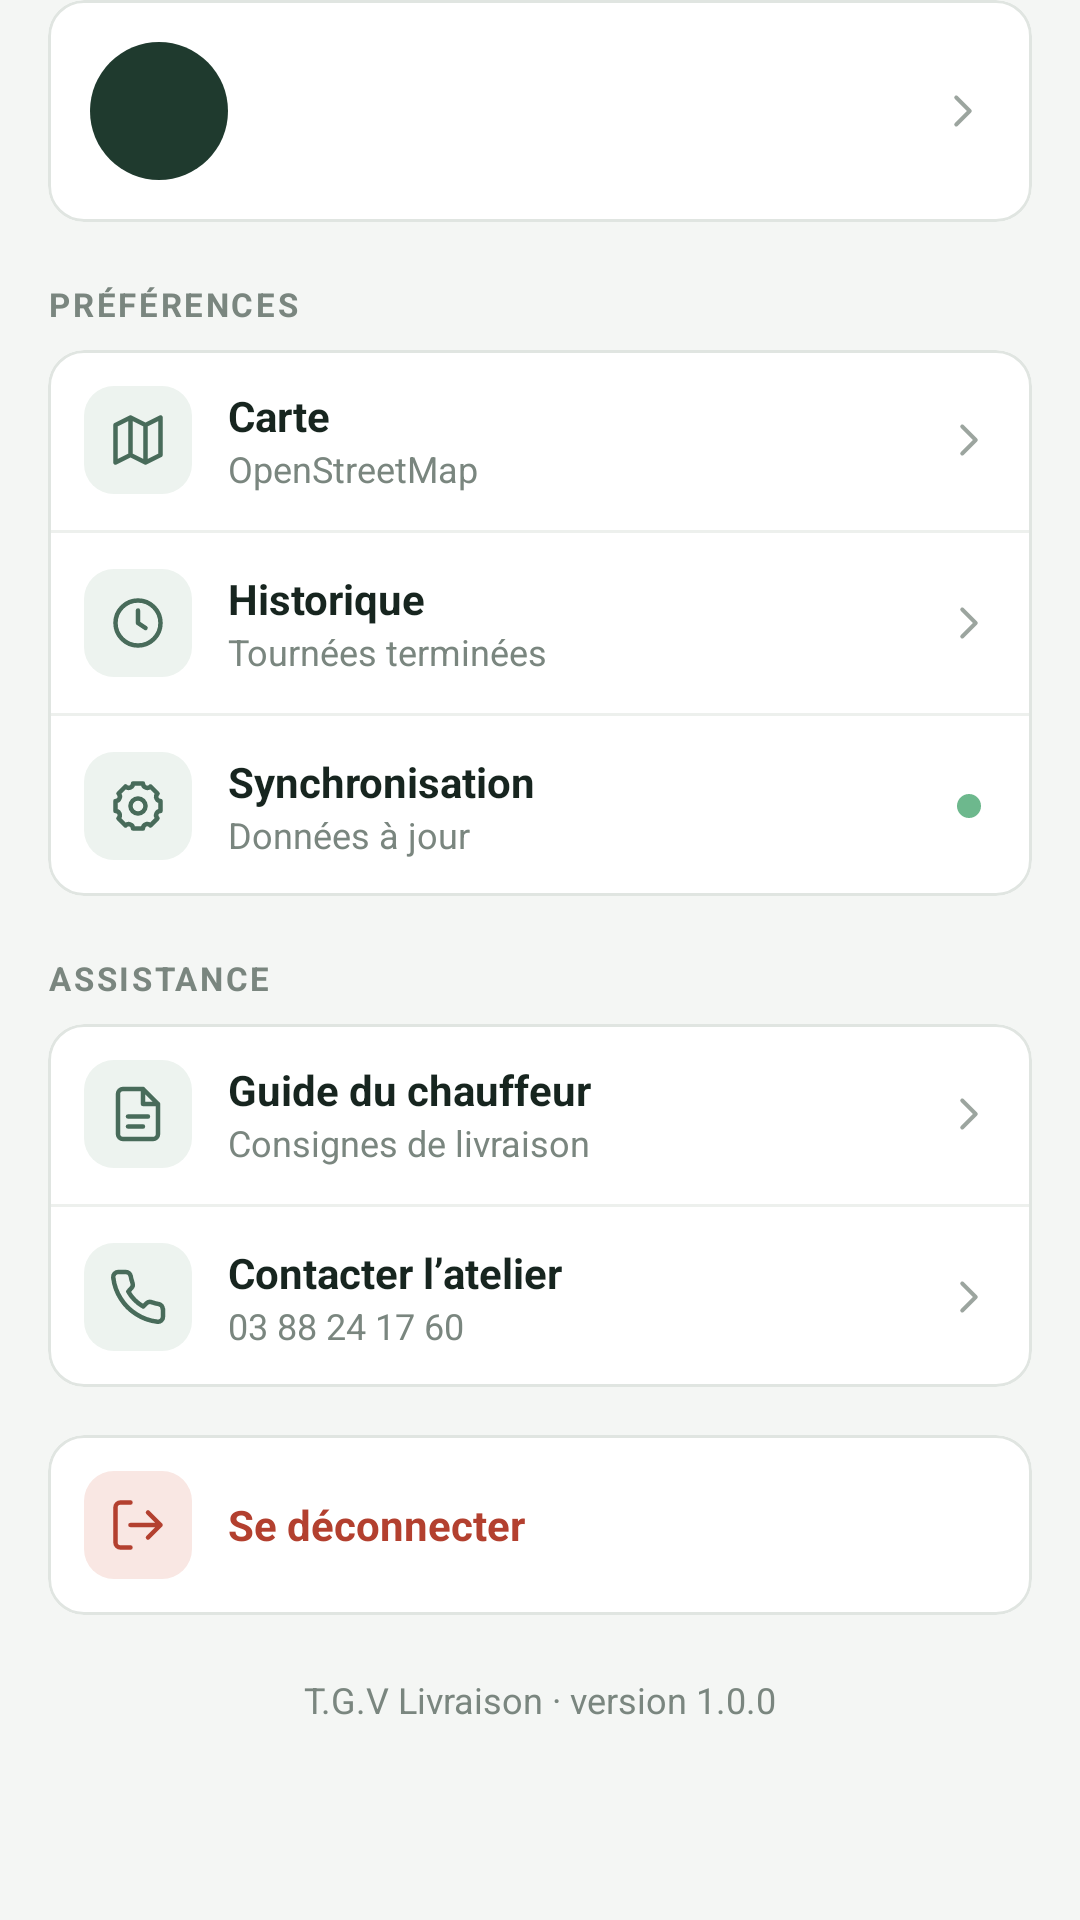

Icon click points for this 1080 x 1920 phone screenshot, format [x,y]:
deconnexion: [138,1525]
document: [138,1114]
horloge: [138,623]
parametres: [138,806]
telephone: [138,1297]
